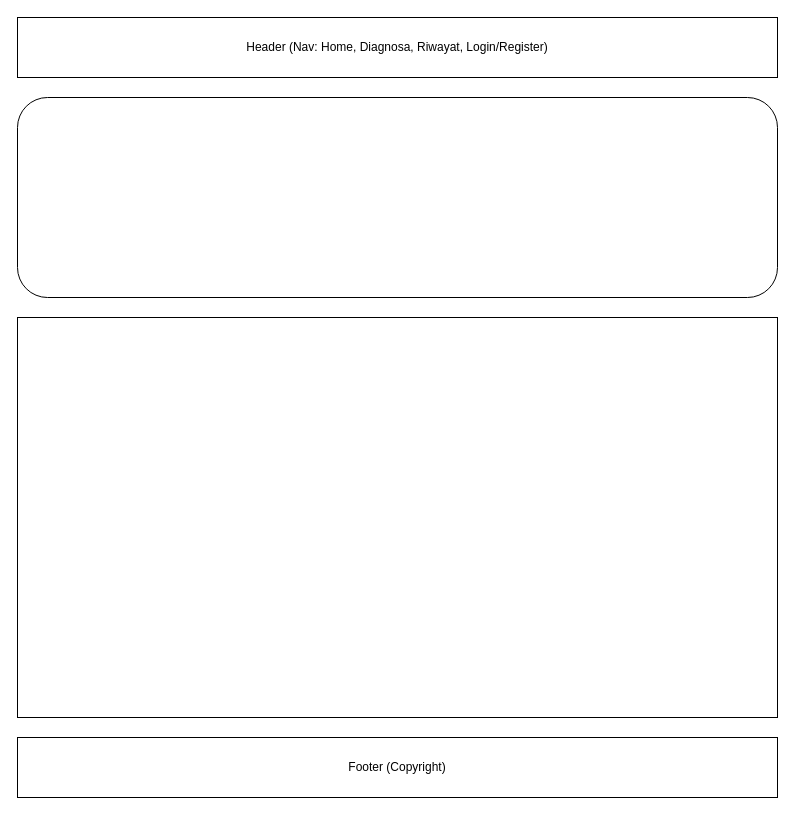
The diagram is 795 pixels wide and 815 high, and some of its shapes have lost their labels. Here are the shapes that lost their labels. From the top down, the centre of each, then its label:
At [397,197]: "Hero Section: Selamat Datang di KangkungKu (Expert System)".
At [397,517]: "Main Content Area (Gejala Checkboxes or Info)".
